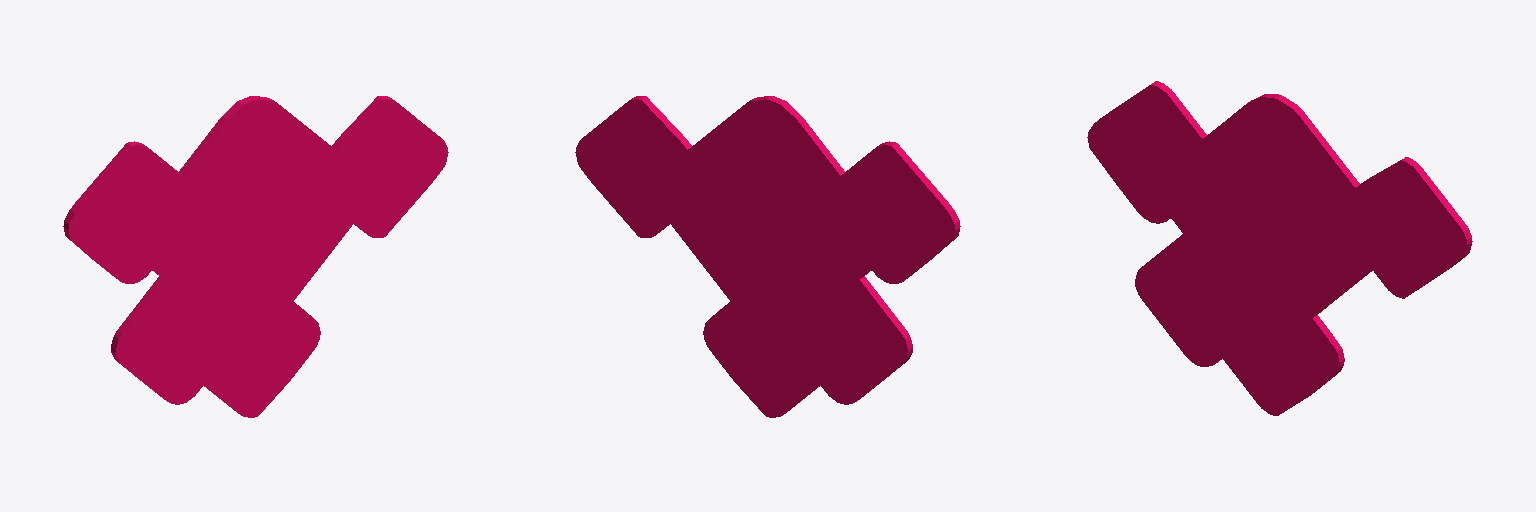
3 renders of one model, left to right at view 1: azimuth 30°, elevation 25°; view 2: azimuth 150°, elevation 25°; view 3: azimuth 330°, elevation 25°, orthographic.
Visible parts, largest first — view 1: Leaf3; view 2: Leaf3; view 3: Leaf3.
Part boxes in pixels (x1,y1,x2,y2): Leaf3: (63, 96, 448, 417); Leaf3: (575, 96, 960, 417); Leaf3: (1087, 81, 1472, 415).
Bounding box in the file's own units: 47.1 × 37.6 × 1.08.
Materials: 1 (1 with a texture image).